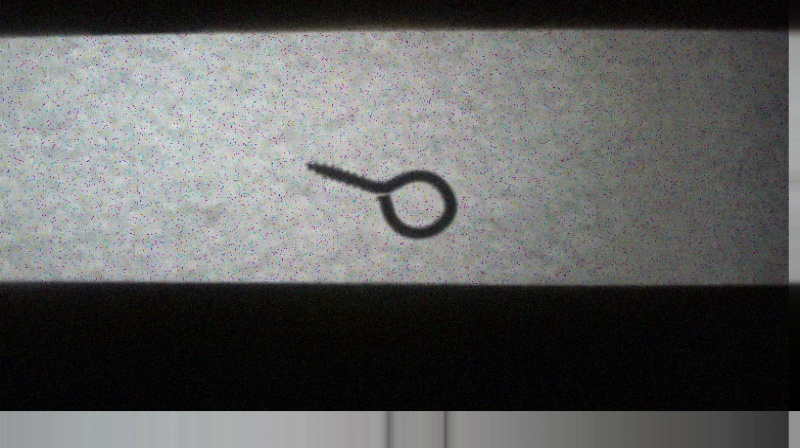O001: (302, 157, 461, 241)
